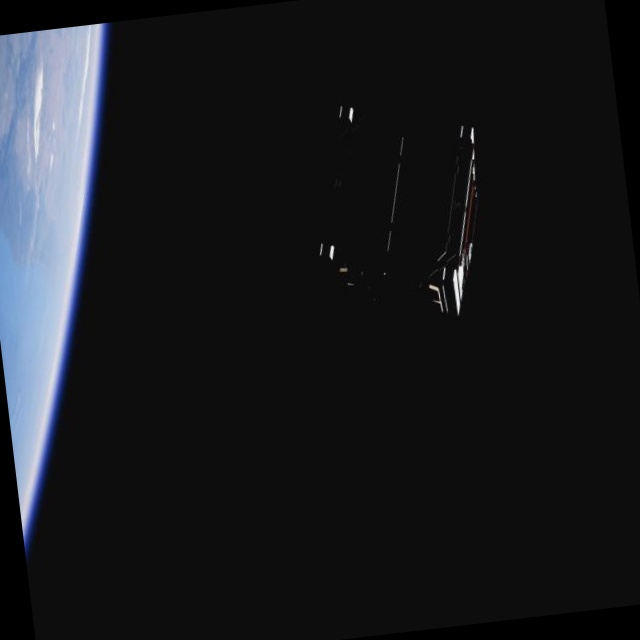medium_debris: (292, 80, 513, 338)
